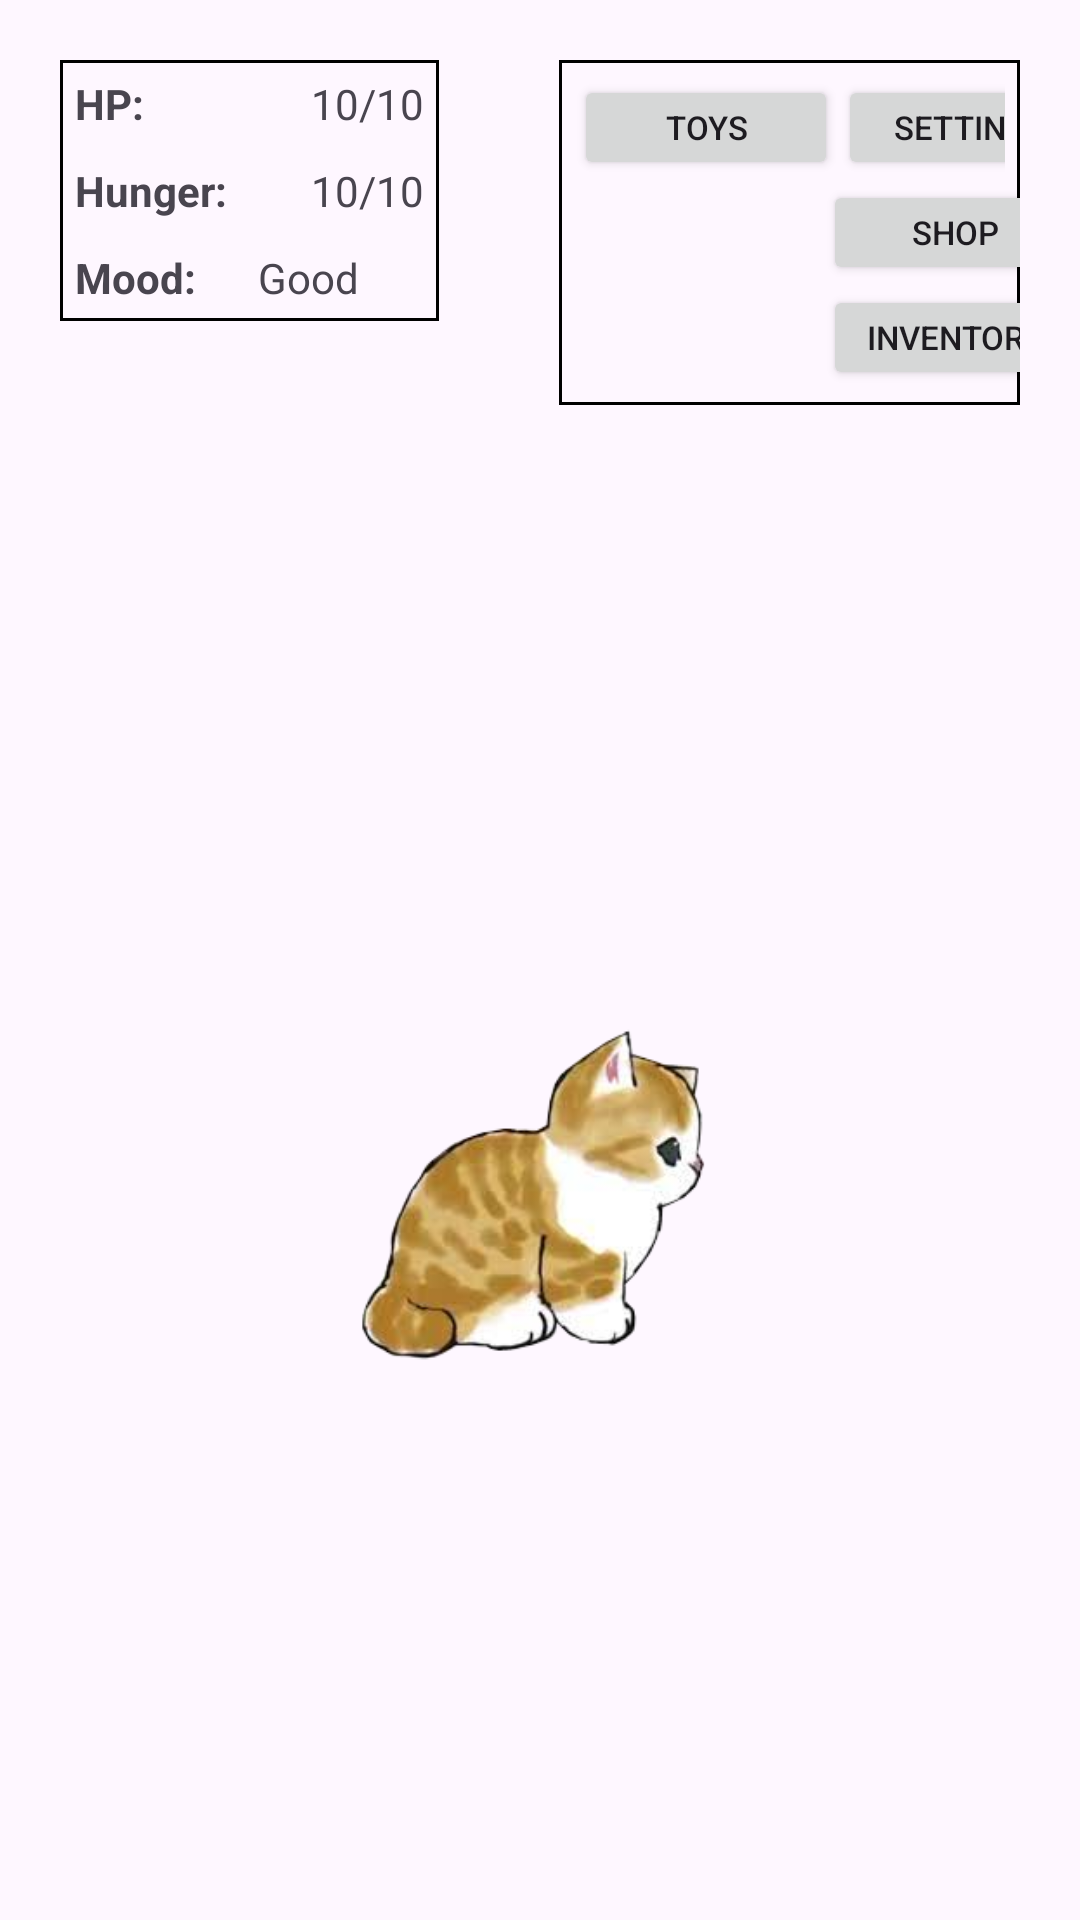

Icons on this 1080 x 1920 Android screen, each with the point to tap as [x,y]:
nyanko: [533,1195]
